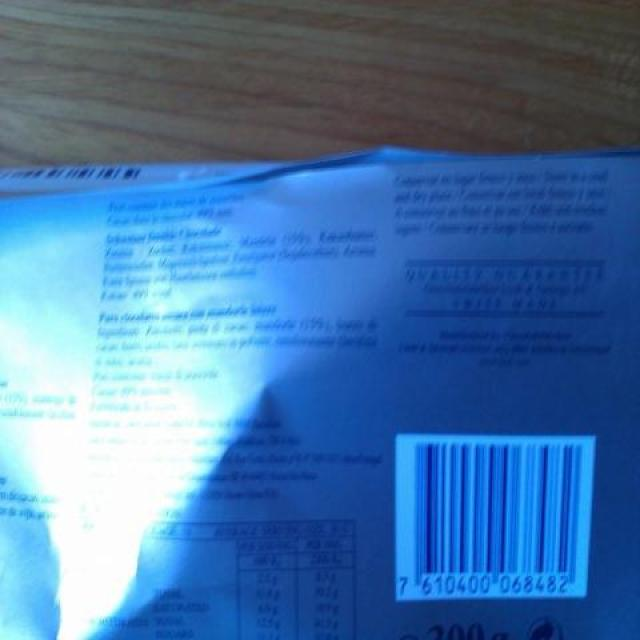Barcode: (395, 433, 596, 598)
